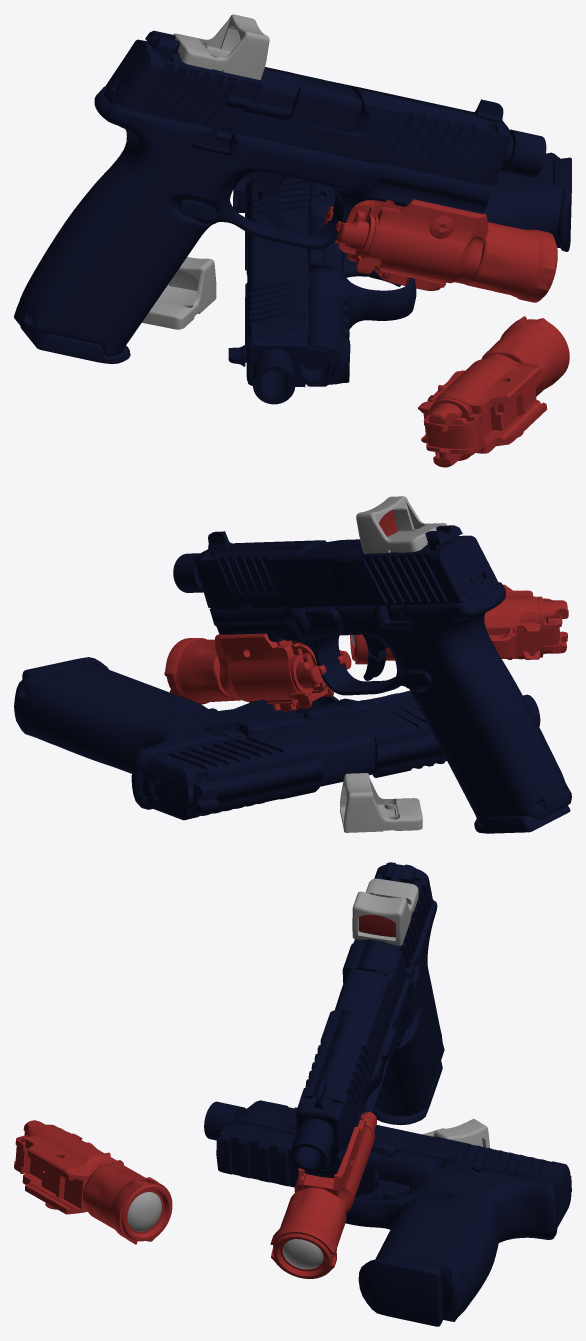
3 views of the same model, one above another, from view 1: azimuth 30°, elevation 25°; view 2: azimuth 150°, elevation 25°; view 3: azimuth 270°, elevation 25° (orthographic). The views are drawn at different scales.
Parts seen in each view (by area): view 1: top_low, top_low001, xh006_low, xh006_low001, scope, scope001; view 2: top_low, top_low001, xh006_low, xh006_low001, scope001, scope; view 3: top_low001, top_low, xh006_low001, xh006_low, scope, scope001.
Boxes of the visible parts, bbox=[...] form: top_low: bbox=[14, 30, 546, 363]; top_low001: bbox=[228, 152, 571, 404]; xh006_low: bbox=[324, 199, 557, 302]; xh006_low001: bbox=[418, 316, 569, 467]; scope: bbox=[173, 14, 269, 79]; scope001: bbox=[142, 257, 216, 329]; top_low: bbox=[173, 525, 571, 833]; top_low001: bbox=[14, 657, 540, 820]; xh006_low: bbox=[164, 633, 351, 711]; xh006_low001: bbox=[350, 584, 568, 664]; scope001: bbox=[340, 773, 422, 832]; scope: bbox=[356, 496, 447, 553]; top_low001: bbox=[204, 1100, 571, 1326]; top_low: bbox=[290, 862, 444, 1178]; xh006_low001: bbox=[14, 1120, 172, 1244]; xh006_low: bbox=[270, 1111, 376, 1278]; scope: bbox=[352, 878, 418, 945]; scope001: bbox=[422, 1119, 489, 1147].
Bounding box in the file's own units: 2302 × 1197 × 2175.
